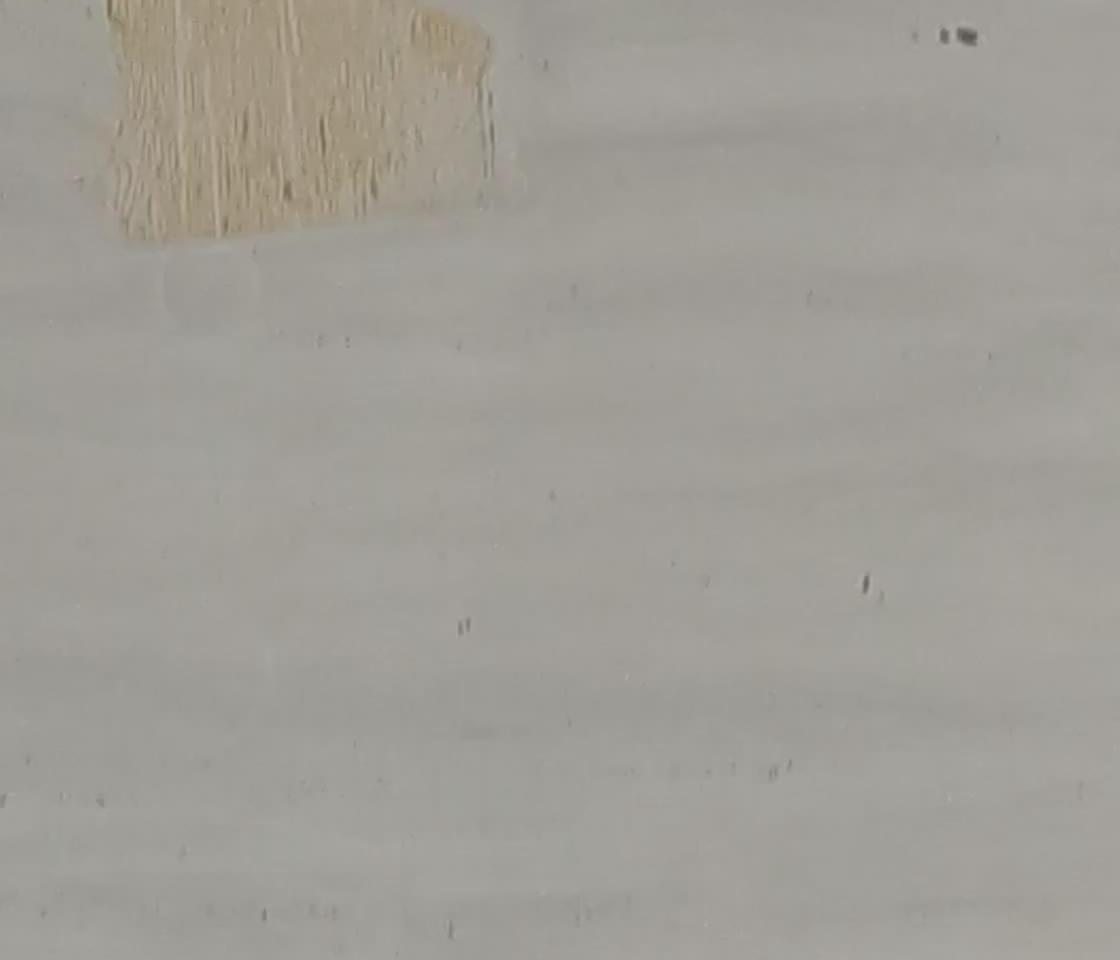scratch: (937, 19, 980, 50), (856, 570, 877, 602)
